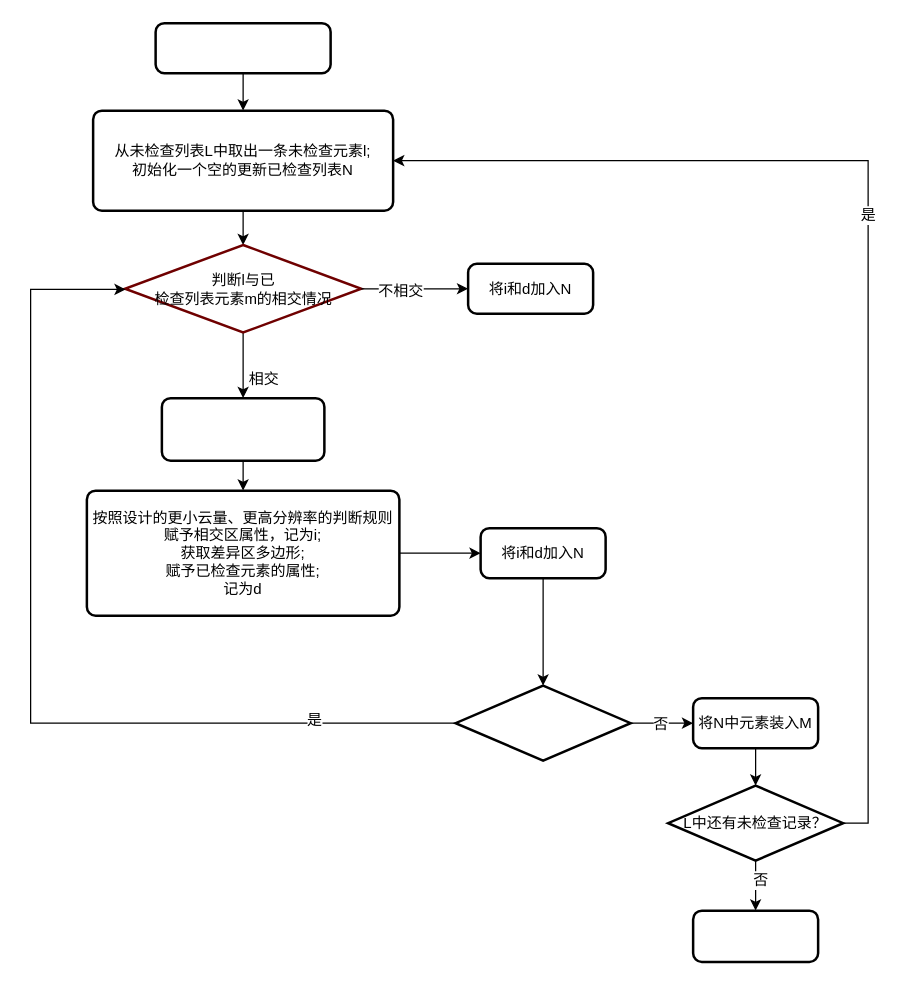
The diagram is 900 pixels wide and 984 high, and some of its shapes have lost their labels. The shapes that lost their labels are listed below. From the top down, each one's box as (x1, y1, x2, y2) in pixels, then its label:
(154, 21, 331, 74): 初始化已检查列表M
(160, 396, 325, 461): 获取相交区多边形
(454, 684, 631, 761): M中还有未比较记录？
(691, 909, 819, 962): 返回M
